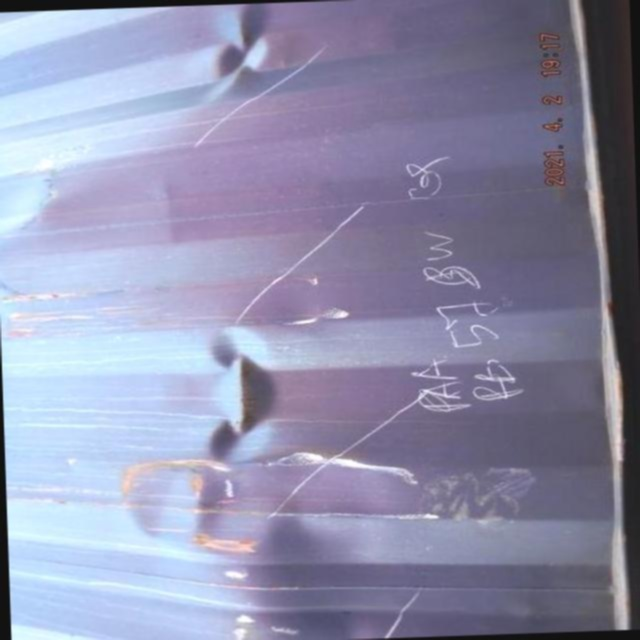Dent: (107, 312, 425, 640)
